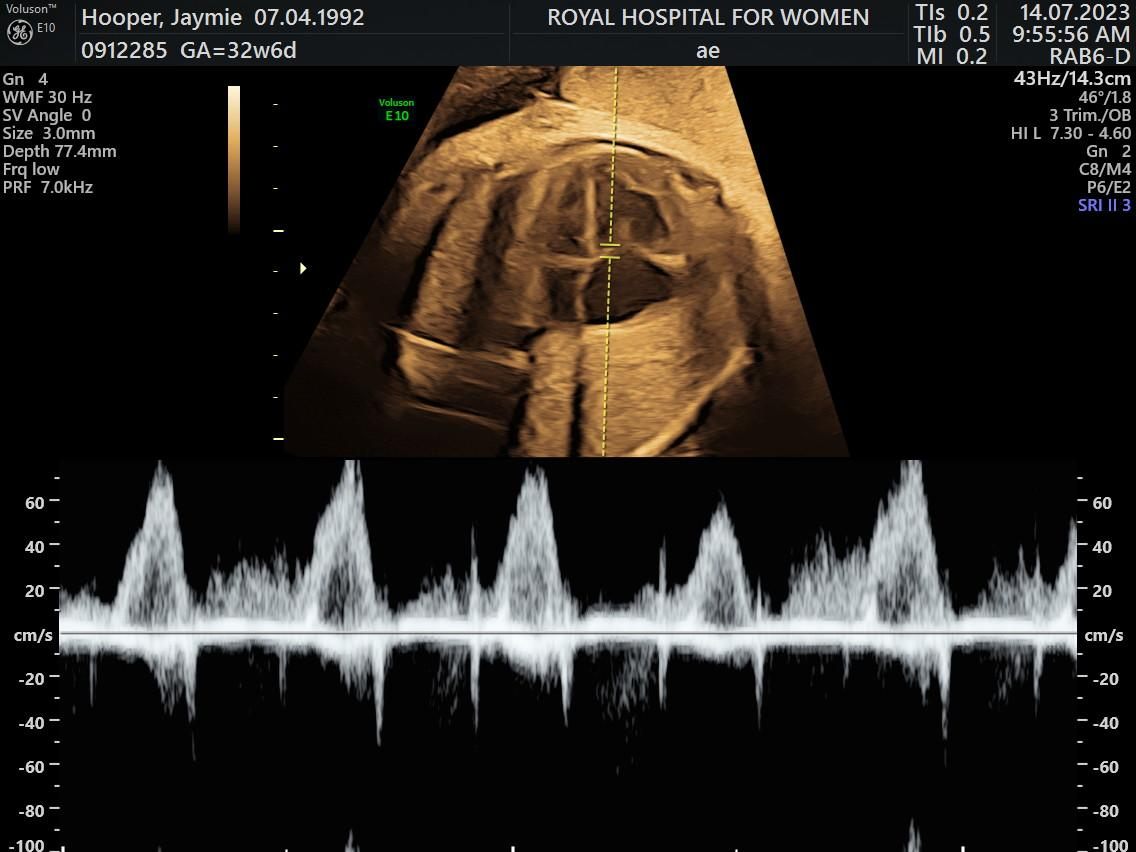Ultrasound-Waves: (59, 451, 1076, 852)
